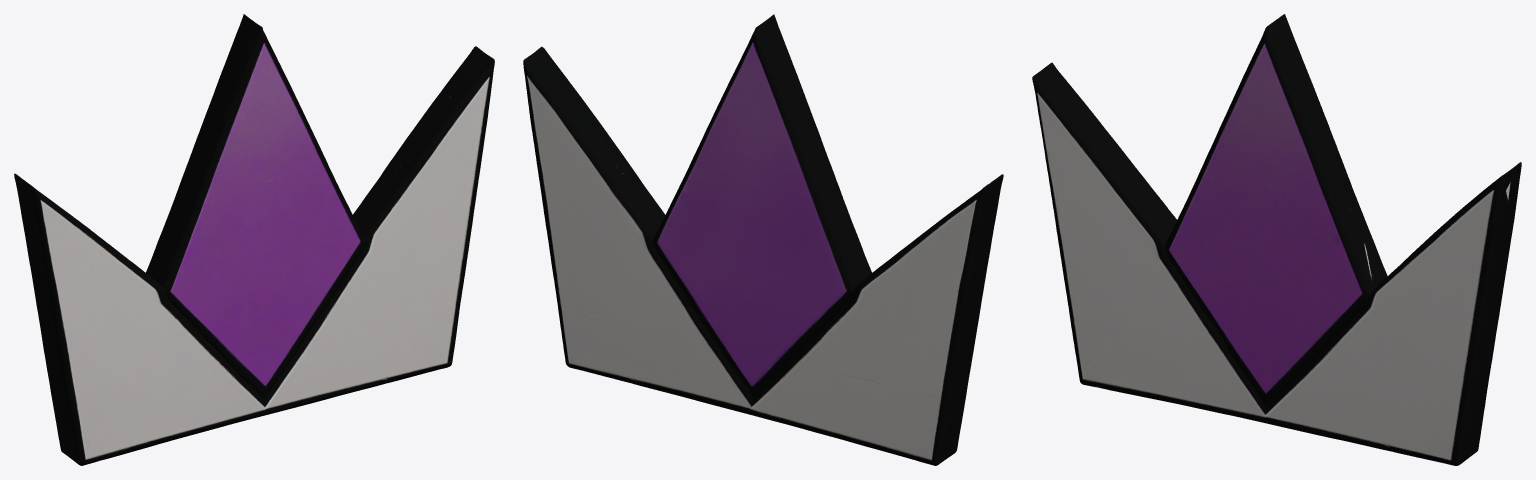
The model's file is crown.glb.
3 renders of one model, left to right at view 1: azimuth 30°, elevation 25°; view 2: azimuth 150°, elevation 25°; view 3: azimuth 330°, elevation 25°, orthographic.
Size of the model in its own units: 2 by 1.63 by 0.1689.
1 material, 1 textured.
